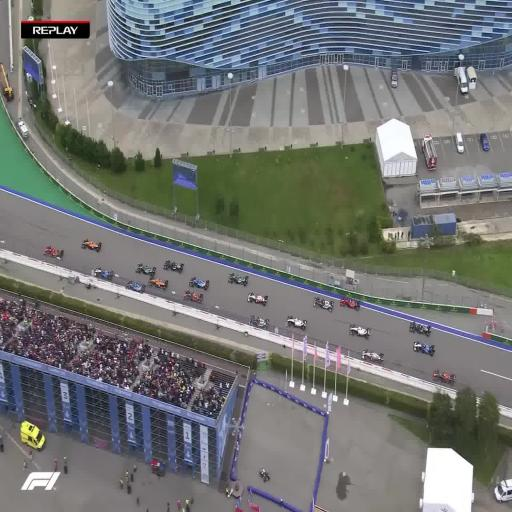f1_car: (432, 368, 455, 383), (409, 321, 431, 336), (413, 341, 435, 355), (249, 314, 269, 329), (349, 324, 370, 338), (314, 296, 333, 311), (189, 276, 209, 290), (163, 260, 184, 273), (81, 239, 102, 252), (339, 297, 360, 310), (286, 316, 307, 329), (362, 349, 383, 362), (183, 290, 203, 303), (94, 267, 114, 280), (136, 263, 156, 276), (148, 276, 168, 289), (228, 273, 249, 285), (247, 293, 268, 305), (44, 246, 63, 259), (125, 281, 145, 293), (259, 468, 270, 482)
